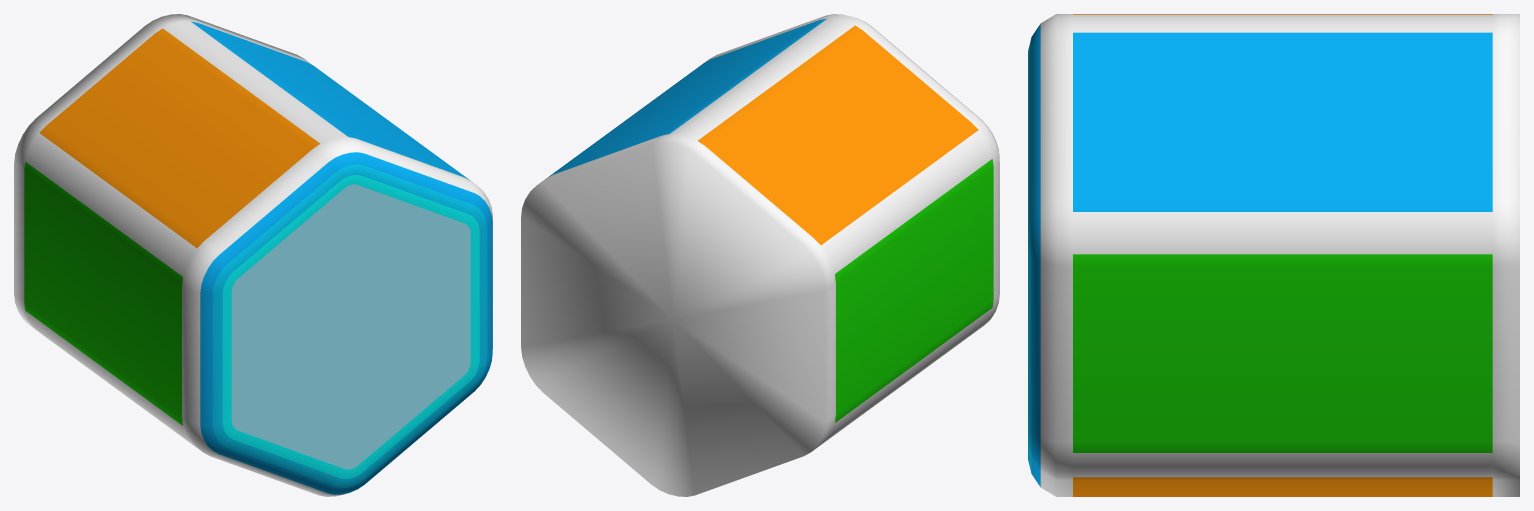
File: D_FBX_06_Bumper_02_B.fbx
3 renders of one model, left to right at view 1: azimuth 30°, elevation 25°; view 2: azimuth 150°, elevation 25°; view 3: azimuth 270°, elevation 25°, orthographic. The views are drawn at different scales.
Parts seen in each view (by area): view 1: D_FBX_06_Bumper_02_B; view 2: D_FBX_06_Bumper_02_B; view 3: D_FBX_06_Bumper_02_B.
Boxes of the visible parts, x1,y1,x2,y2 form: D_FBX_06_Bumper_02_B: (14,14,492,496); D_FBX_06_Bumper_02_B: (521,14,999,496); D_FBX_06_Bumper_02_B: (1028,14,1519,496).
Bounding box in the file's own units: 2 × 2.21 × 2.1.
